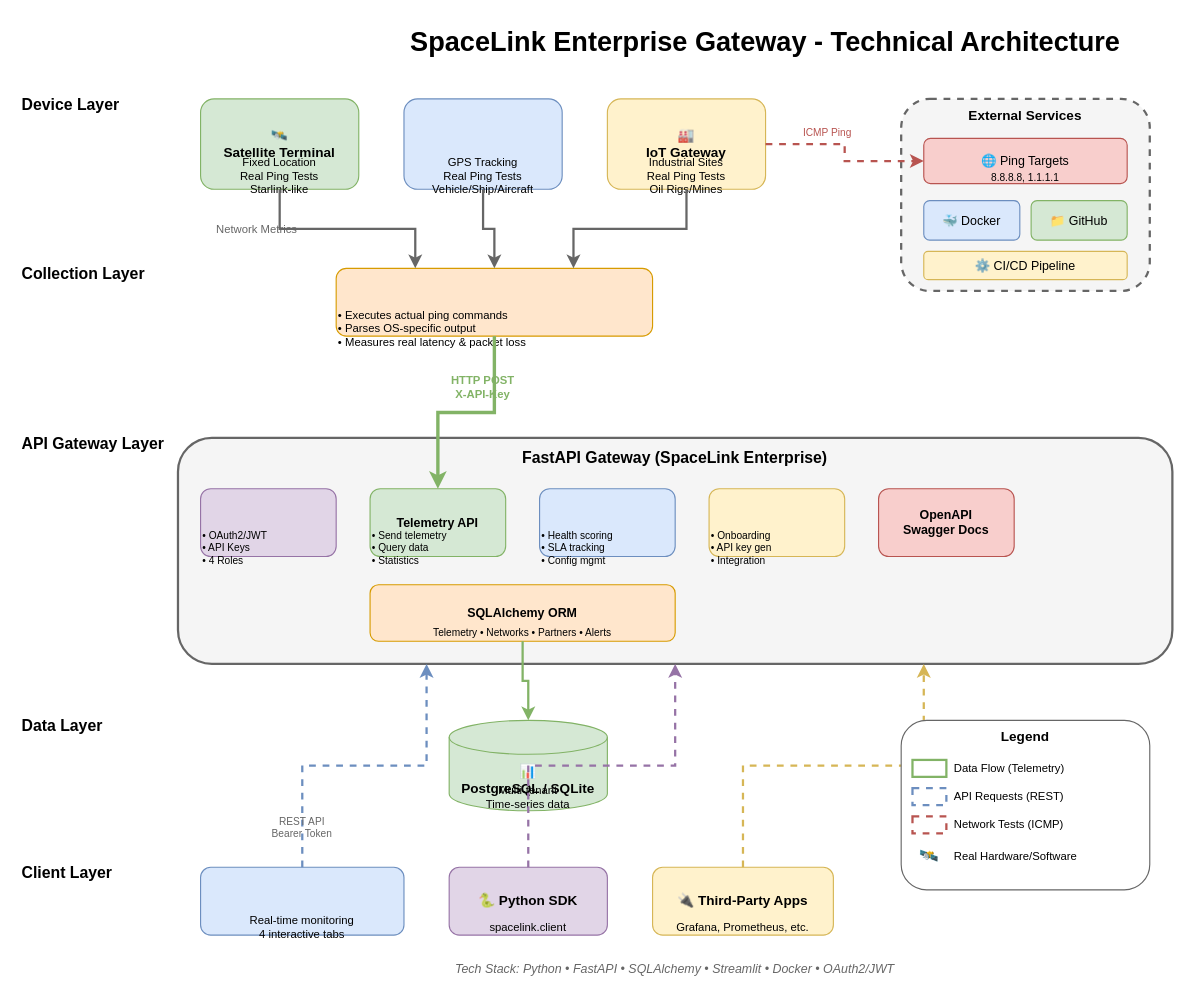
The diagram is 1192 pixels wide and 999 high, and some of its shapes have lost their labels. Here are the shapes that lost their labels. From the top down, the box of each, then its label:
(403, 98, 562, 189): 🚗 Mobile Unit
(335, 267, 653, 336): Real Telemetry Agent (real_agent.py)
(199, 488, 336, 557): Authentication & RBAC
(538, 488, 675, 557): Networks API
(708, 488, 845, 557): Partners API
(199, 866, 404, 935): 📊 Streamlit Dashboard
